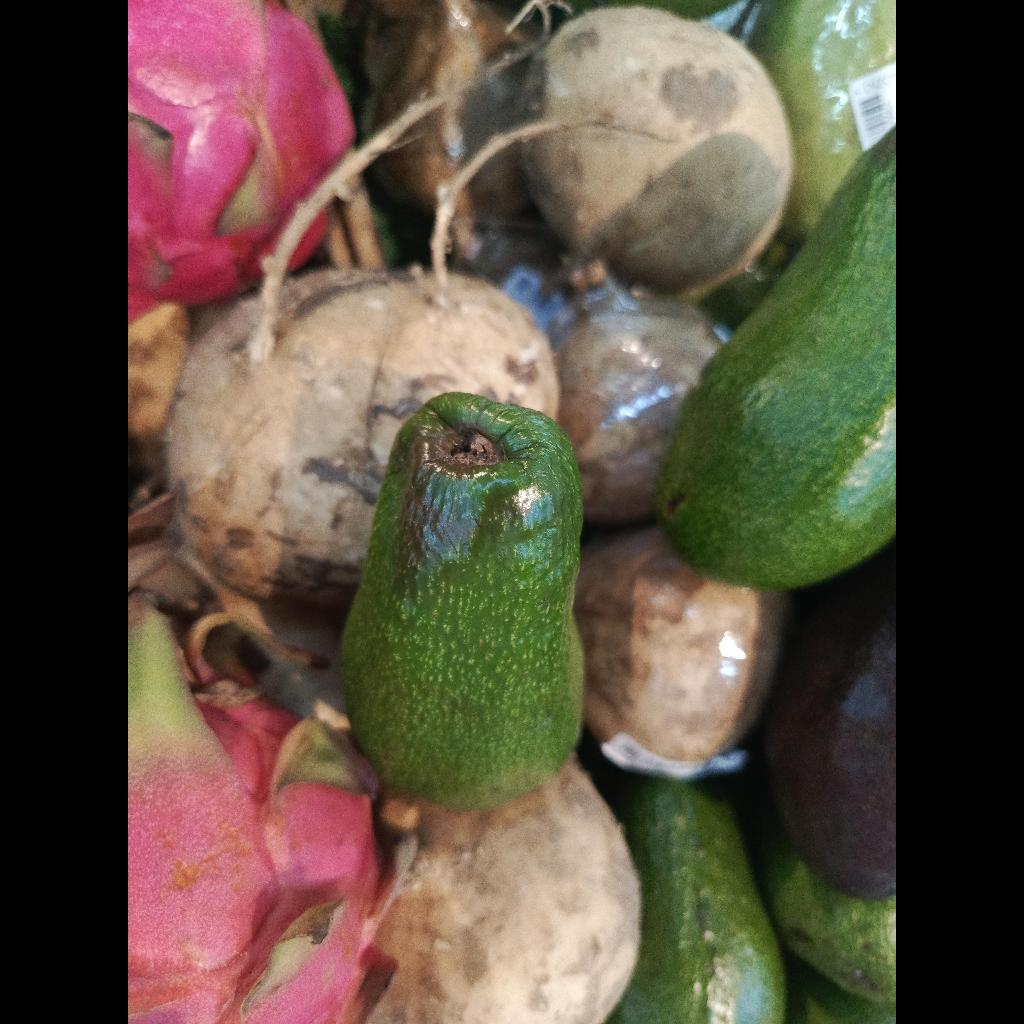stem end rot: (341, 392, 584, 810)
